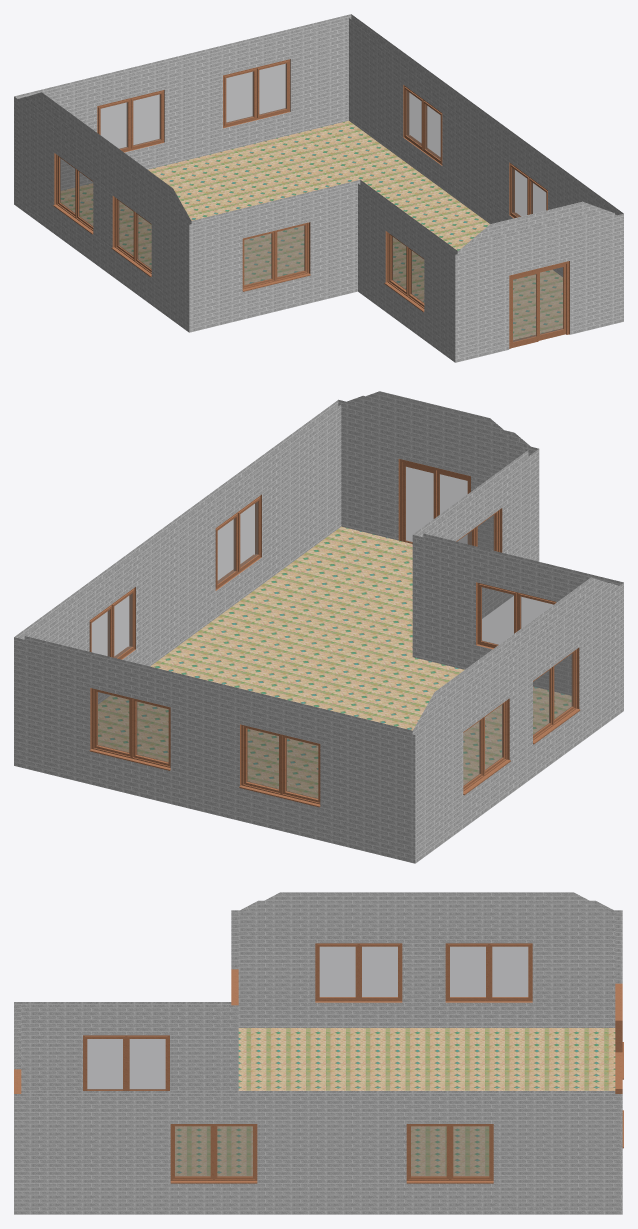
File: telhado44a.glb
3 renders of one model, top to bottom at view 1: azimuth 30°, elevation 25°; view 2: azimuth 150°, elevation 25°; view 3: azimuth 270°, elevation 25°, orthographic. The views are drawn at different scales.
Parts seen in each view (by area): view 1: root; view 2: root; view 3: root.
Boxes of the visible parts, x1,y1,x2,y2 form: root: (14, 14, 623, 362); root: (14, 391, 623, 863); root: (14, 892, 623, 1214).
Bounding box in the file's own units: 10.06 × 3.6 × 14.03.
Materials: 7 (3 with a texture image).
